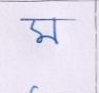anusvara: (30, 86, 39, 92)
